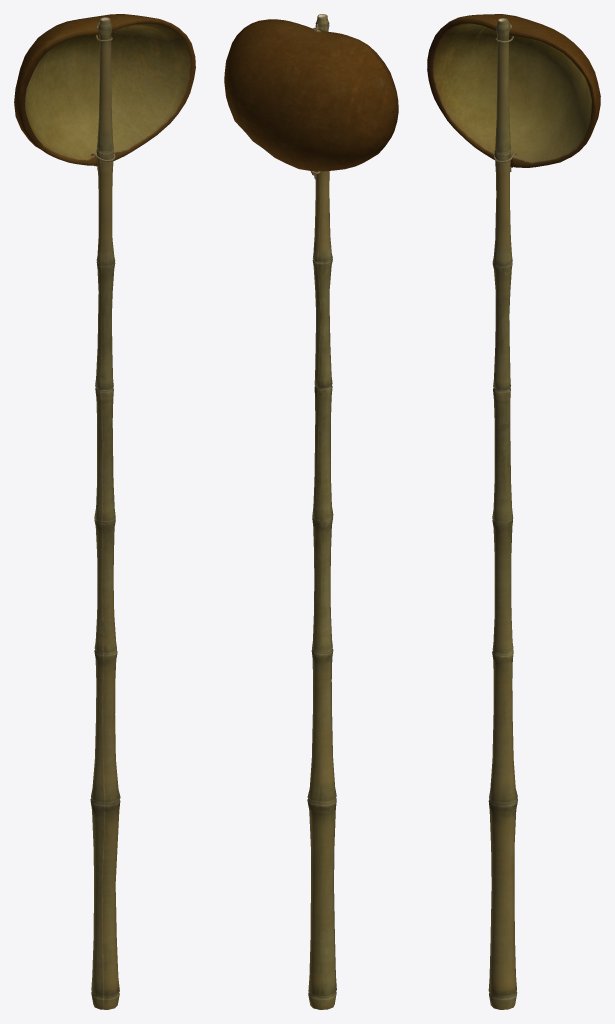
Rendered from SM_PanaebagLadle.fbx.
3 views of the same model, side by side, from view 1: azimuth 30°, elevation 25°; view 2: azimuth 150°, elevation 25°; view 3: azimuth 330°, elevation 25° (orthographic).
Parts seen in each view (by area): view 1: SM_PanaebagLadle_LOD0; view 2: SM_PanaebagLadle_LOD0; view 3: SM_PanaebagLadle_LOD0.
Part boxes in pixels (x1,y1,x2,y2): SM_PanaebagLadle_LOD0: (14,14,195,1009); SM_PanaebagLadle_LOD0: (224,14,398,1009); SM_PanaebagLadle_LOD0: (427,14,600,1009).
Bounding box in the file's own units: 30.79 × 168 × 14.35.
Materials: 1 (1 with a texture image).
